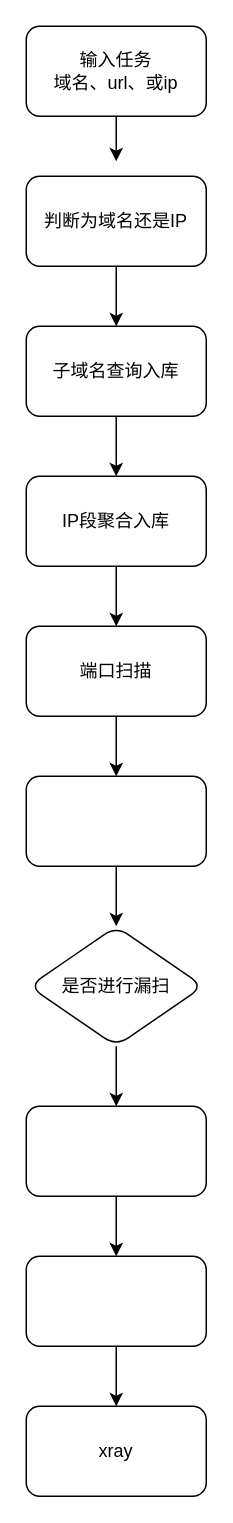
The diagram is 233 pixels wide and 1523 high, and some of its shapes have lost their labels. The shapes that lost their labels are listed below. From the top down, each one's centre as x and y in pixels, then its label:
[115,820]: Web服务发现
[115,1150]: nuclei【待完成】
[115,1300]: 目录扫描+crawlergo
